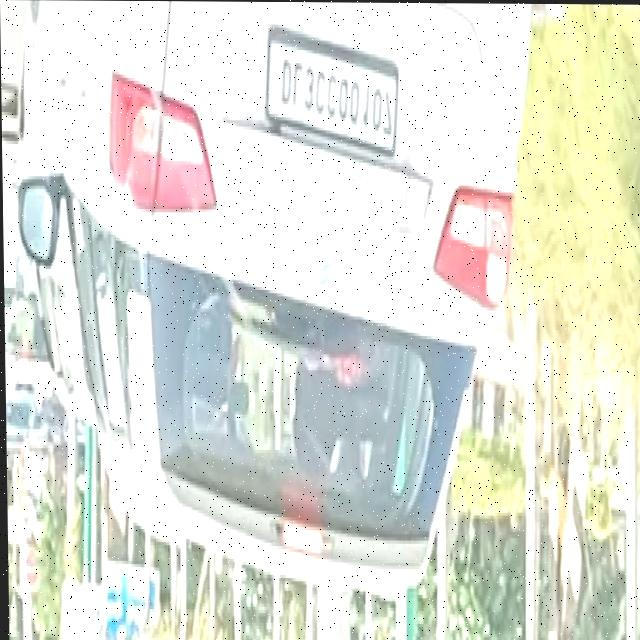plate: (262, 31, 400, 159)
